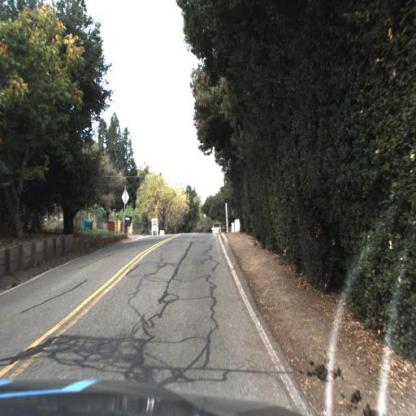car: (205, 214, 224, 241)
